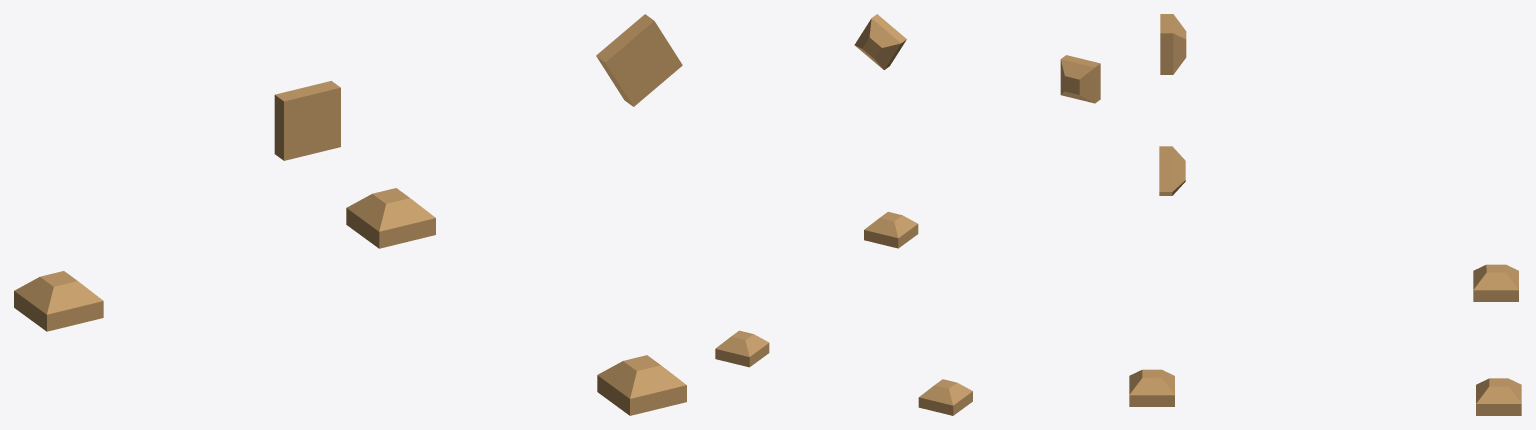
The model's file is R11M_target_base.dae.
3 views of the same model, side by side, from view 1: azimuth 30°, elevation 25°; view 2: azimuth 150°, elevation 25°; view 3: azimuth 270°, elevation 25° (orthographic). The views are drawn at different scales.
Visible parts, largest first — view 1: Group9, Group14, Group12, Group3, Group6; view 2: Group9, Group14, Group6, Group12, Group3; view 3: Group12, Group6, Group3, Group9, Group14.
Part boxes in pixels (left/top/right/bottom): Group9: left=274, top=81, right=340, bottom=160; Group14: left=596, top=14, right=682, bottom=106; Group12: left=346, top=188, right=435, bottom=248; Group3: left=597, top=355, right=686, bottom=415; Group6: left=14, top=271, right=103, bottom=331; Group9: left=1060, top=55, right=1100, bottom=103; Group14: left=854, top=14, right=906, bottom=69; Group6: left=918, top=379, right=972, bottom=415; Group12: left=715, top=330, right=769, bottom=367; Group3: left=864, top=211, right=918, bottom=248; Group12: left=1476, top=378, right=1521, bottom=415; Group6: left=1473, top=264, right=1518, bottom=301; Group3: left=1129, top=369, right=1174, bottom=406; Group9: left=1160, top=14, right=1186, bottom=74; Group14: left=1159, top=146, right=1185, bottom=195.
Size of the model in its own units: 1.01 by 1.2 by 0.921.
